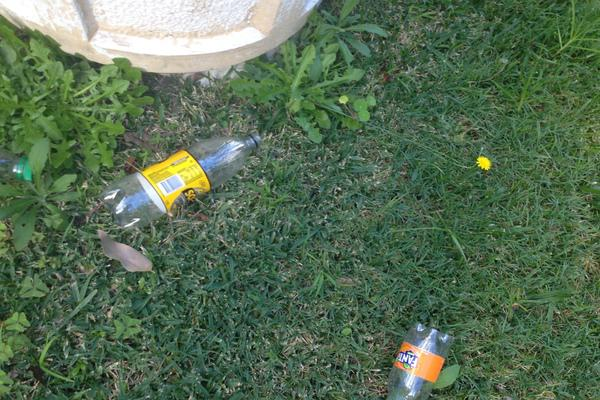Plastic Bottle: (102, 133, 263, 230), (387, 321, 451, 400)
